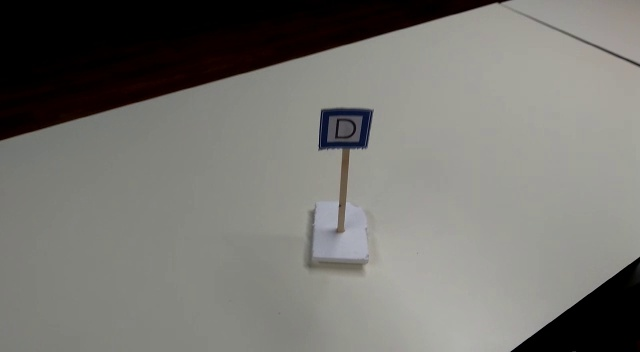durak: (318, 107, 374, 151)
